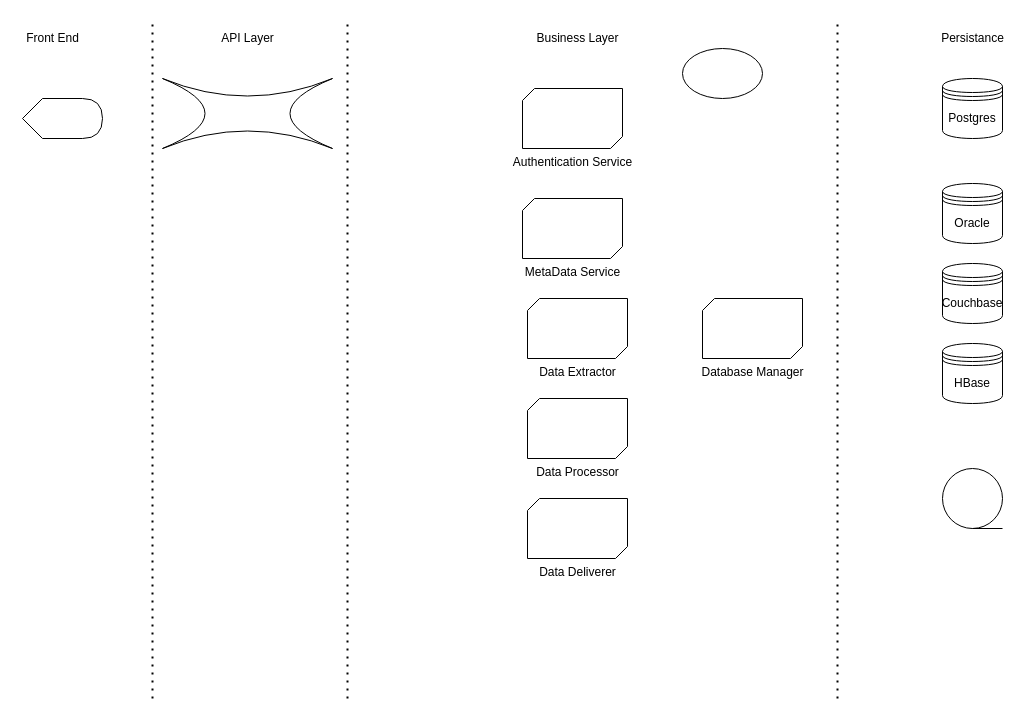
Image size: 1029x717. Some labels were removed from this diagram. Here are the shapes that lost their labels. From the top down, the centre of each, then its label:
(x=722, y=73): LDAP
(x=247, y=113): API Gateway
(x=972, y=498): Kafka
